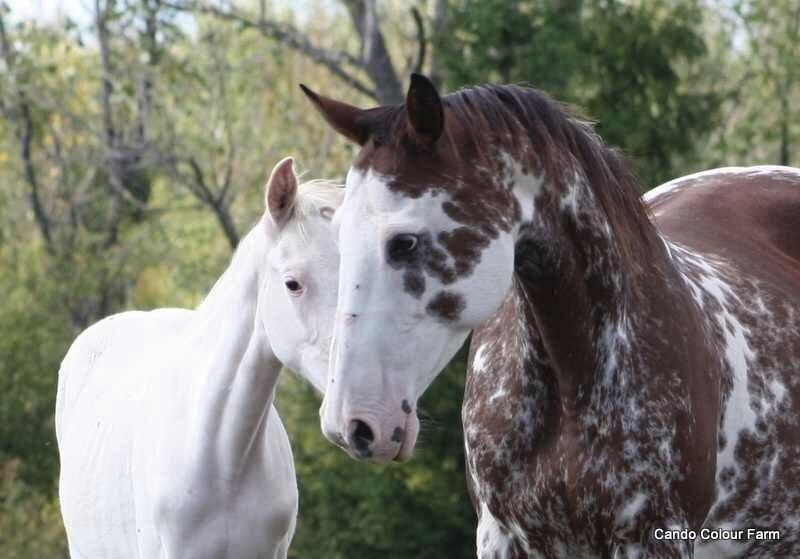horse: (298, 71, 799, 558)
